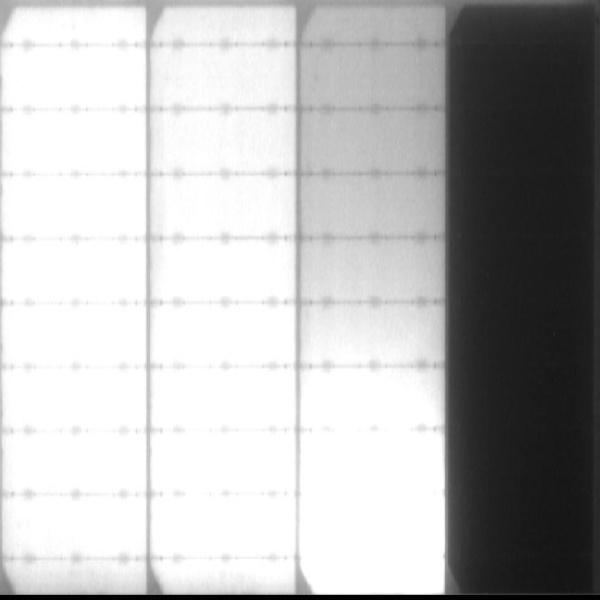hot_spot: (314, 441, 444, 599), (8, 242, 143, 299), (157, 241, 287, 297), (7, 53, 143, 106), (7, 115, 144, 167), (157, 308, 291, 360), (8, 180, 140, 232), (11, 377, 144, 427), (164, 498, 289, 551), (162, 435, 289, 487), (10, 312, 145, 358), (165, 373, 288, 422), (11, 505, 140, 551), (307, 373, 432, 420), (14, 439, 137, 486)
no_electricity: (444, 4, 600, 600)
